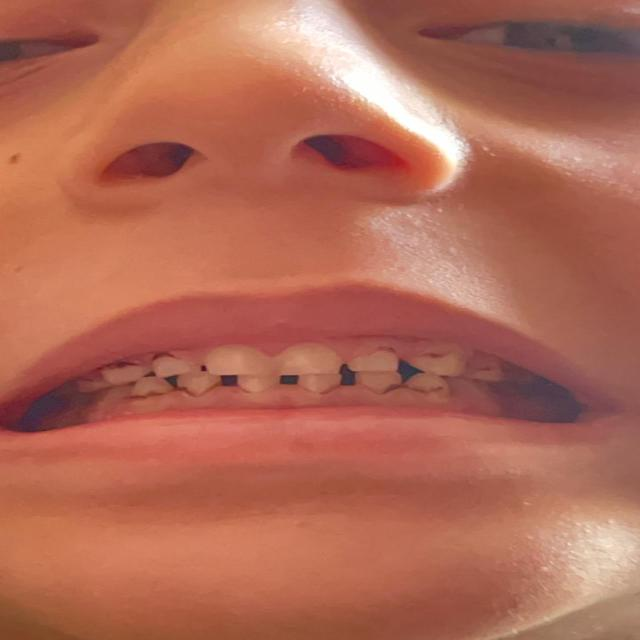tooth: (277, 343, 339, 368), (362, 347, 402, 373), (210, 353, 260, 371), (413, 350, 452, 373), (296, 375, 345, 393), (412, 374, 444, 400), (360, 374, 396, 394), (239, 375, 276, 393), (180, 375, 216, 393), (158, 356, 190, 374), (464, 365, 499, 381), (106, 364, 140, 378), (142, 378, 166, 396)
